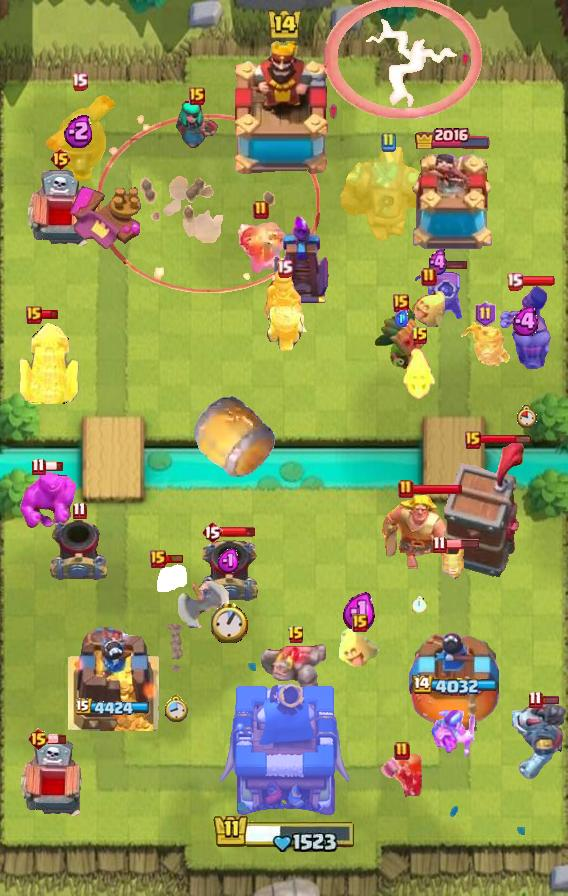axe: (176, 564, 230, 628)
bar: (411, 483, 463, 495), (479, 434, 532, 445), (444, 538, 480, 550), (220, 526, 256, 538), (520, 275, 556, 287), (433, 259, 468, 270), (44, 460, 64, 472), (164, 553, 184, 564), (48, 734, 67, 745), (40, 309, 59, 320), (541, 695, 560, 705)
bar-level: (27, 727, 50, 751), (49, 147, 72, 171), (475, 301, 496, 327), (201, 520, 223, 544), (287, 625, 305, 645), (411, 326, 429, 346), (506, 272, 523, 291), (276, 259, 293, 278), (71, 72, 88, 91), (394, 741, 410, 761), (398, 479, 414, 499), (421, 267, 437, 287), (253, 200, 269, 220), (380, 132, 396, 152), (352, 614, 368, 632), (150, 550, 166, 568), (465, 431, 481, 449), (26, 306, 42, 324), (393, 294, 409, 312), (189, 87, 205, 105), (528, 690, 543, 709), (432, 535, 447, 554), (72, 501, 87, 520), (31, 457, 46, 476)
clock: (211, 602, 248, 643), (163, 694, 188, 722), (517, 405, 537, 428), (412, 596, 427, 614)
dart-goblin: (373, 302, 429, 374)
dirt: (164, 624, 187, 674)
elixir: (342, 592, 378, 632), (64, 113, 95, 148), (512, 307, 542, 336), (426, 249, 451, 276), (217, 548, 241, 574), (395, 310, 408, 327)
elixir-golem-mid: (20, 470, 76, 530)
golemite: (261, 640, 331, 706)
heal-spirit: (402, 347, 438, 401), (338, 626, 382, 670), (411, 289, 447, 327)
king-tower: (220, 678, 349, 826), (228, 41, 340, 181)
king-tower-bar: (212, 810, 356, 852)
lava-pup: (154, 563, 190, 595), (439, 544, 467, 580)
little-prince: (410, 267, 466, 323), (459, 320, 511, 375)
mega-minion: (512, 700, 568, 780)
mortar: (198, 537, 260, 605), (48, 516, 110, 584)
princess: (234, 220, 288, 274)
queen-tower: (405, 154, 501, 256), (68, 627, 160, 731), (407, 633, 499, 731)
ram-rider: (496, 285, 558, 379), (261, 268, 307, 352)
rascal-girl: (174, 101, 220, 151)
spear-goblin: (430, 709, 478, 761)
tesla: (17, 320, 79, 404)
tower-bar: (410, 675, 497, 697), (414, 125, 492, 149), (76, 698, 153, 718)
valkyrie: (379, 753, 425, 799)
